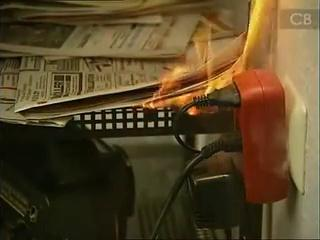Fire: (100, 28, 268, 162)
